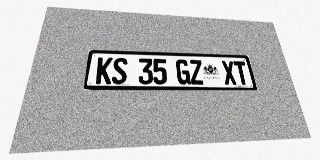3: (138, 58, 153, 84)
5: (153, 59, 167, 84)
G: (176, 59, 191, 84)
K: (95, 57, 113, 84)
S: (111, 58, 128, 84)
T: (233, 61, 250, 85)
X: (221, 61, 237, 85)
Z: (189, 60, 204, 84)
